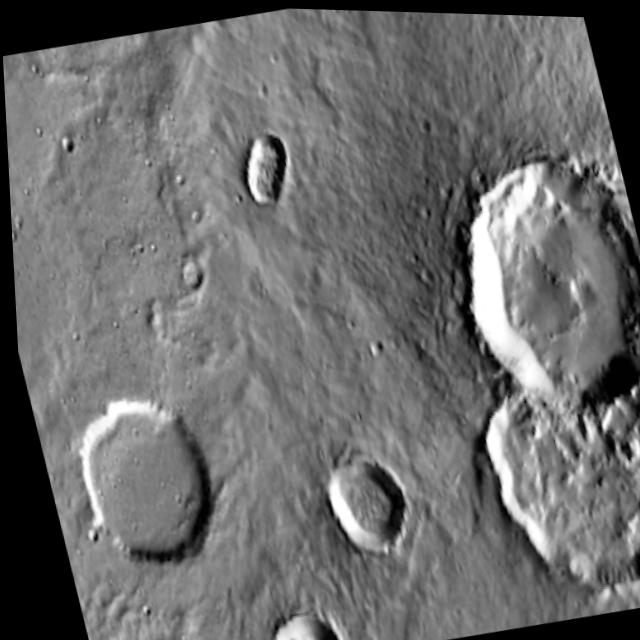Crater: (427, 138, 640, 423), (457, 339, 640, 627), (42, 367, 236, 609), (274, 395, 425, 576), (209, 104, 311, 223), (238, 576, 346, 640), (418, 10, 559, 39)
